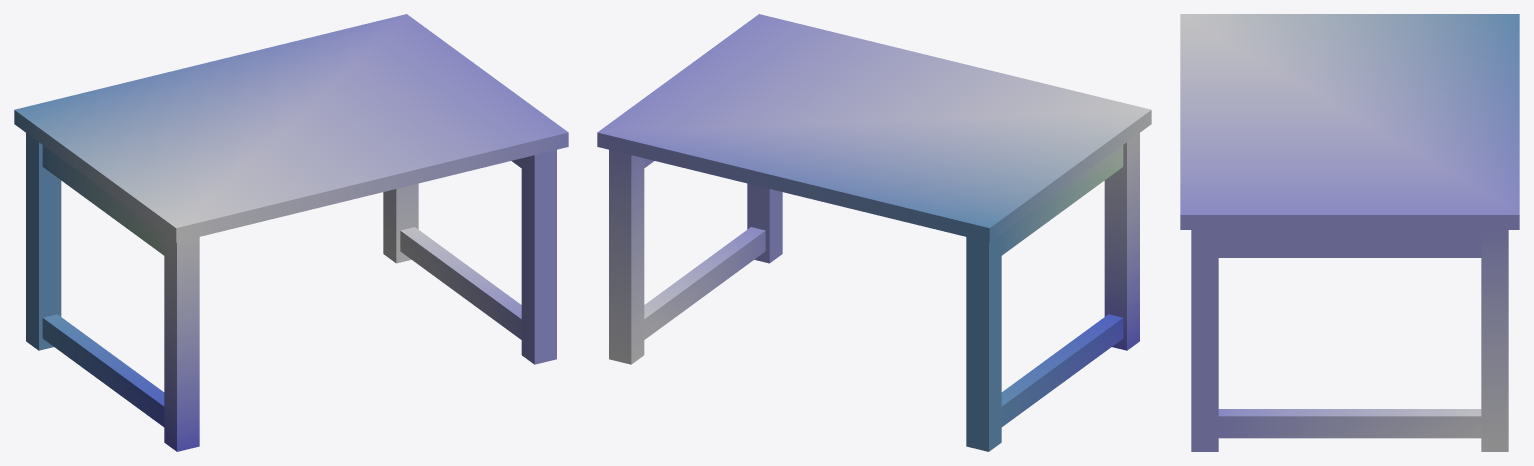
Rendered from Table_2.fbx.
3 renders of one model, left to right at view 1: azimuth 30°, elevation 25°; view 2: azimuth 150°, elevation 25°; view 3: azimuth 270°, elevation 25°, orthographic. The views are drawn at different scales.
Visible parts, largest first — view 1: Table_2; view 2: Table_2; view 3: Table_2.
Part boxes in pixels (x1,y1,x2,y2): Table_2: (14,14,568,451); Table_2: (597,14,1151,451); Table_2: (1180,14,1519,451).
Size of the model in its own units: 1.75 by 0.9762 by 1.25.
